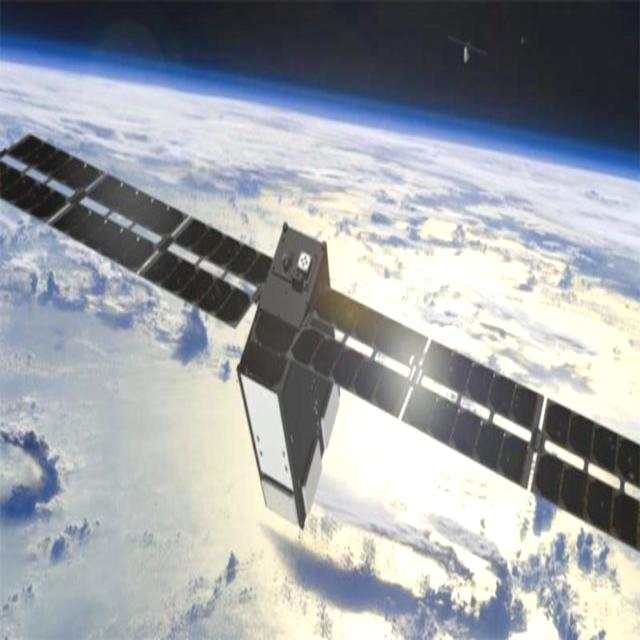satellite: (0, 98, 640, 554)
